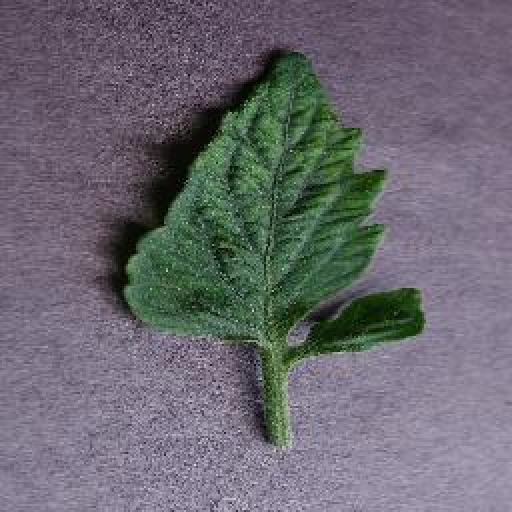Mosaic Virus: (120, 50, 431, 354)
